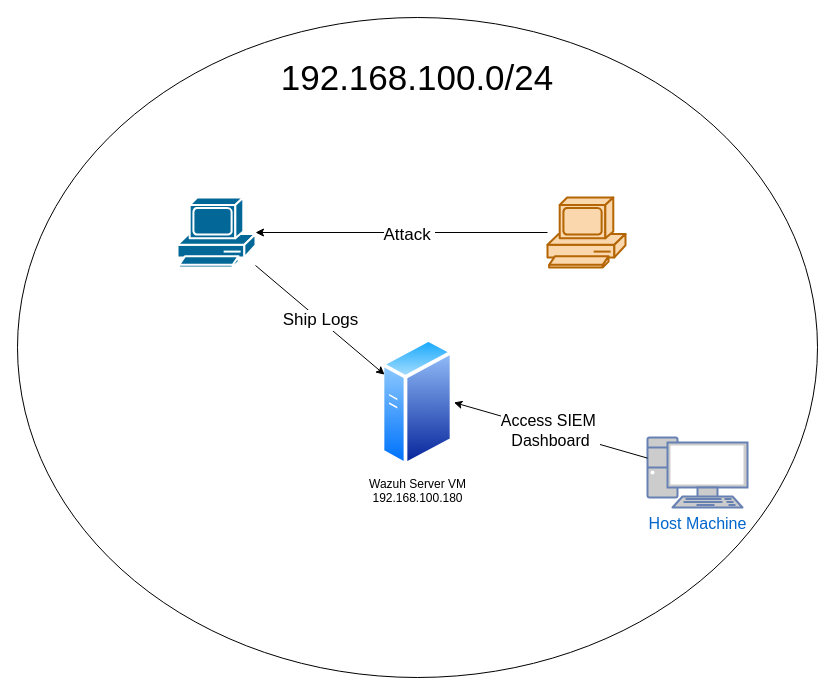
Image size: 835x695. Some labels were removed from this diagram. Here are the shapes that lost their labels. From the top down, the centre of each, then its label:
At point 216,232: "Windows 10 VM 192.168.100.181".
At point 586,232: "KALI linux VM 192.168.100.4".
